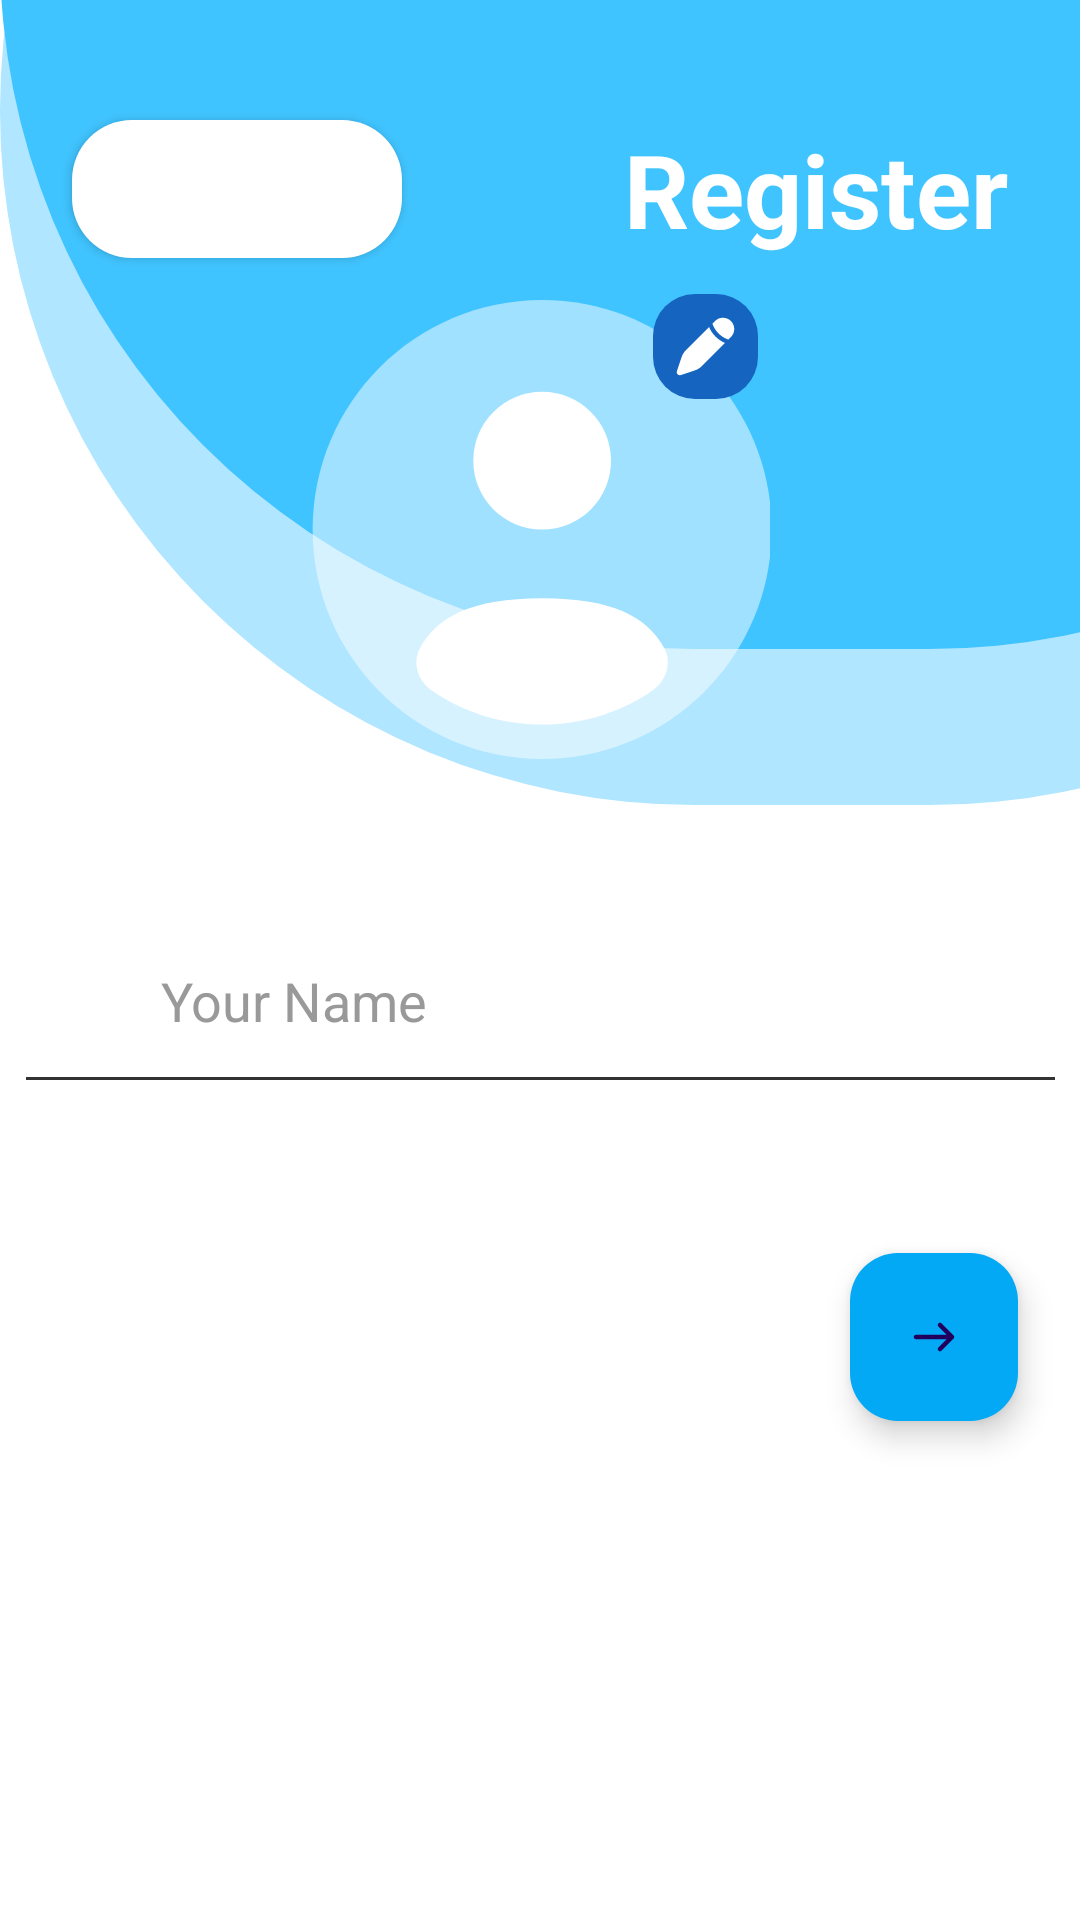

Icon bounding boxes for this 1080w x 1920h phone screenshot, format region(x1, y1, x2, y2):
continue: region(850, 1253, 1018, 1421)
